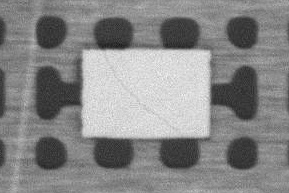DIE_CRACK: (103, 50, 177, 131)
